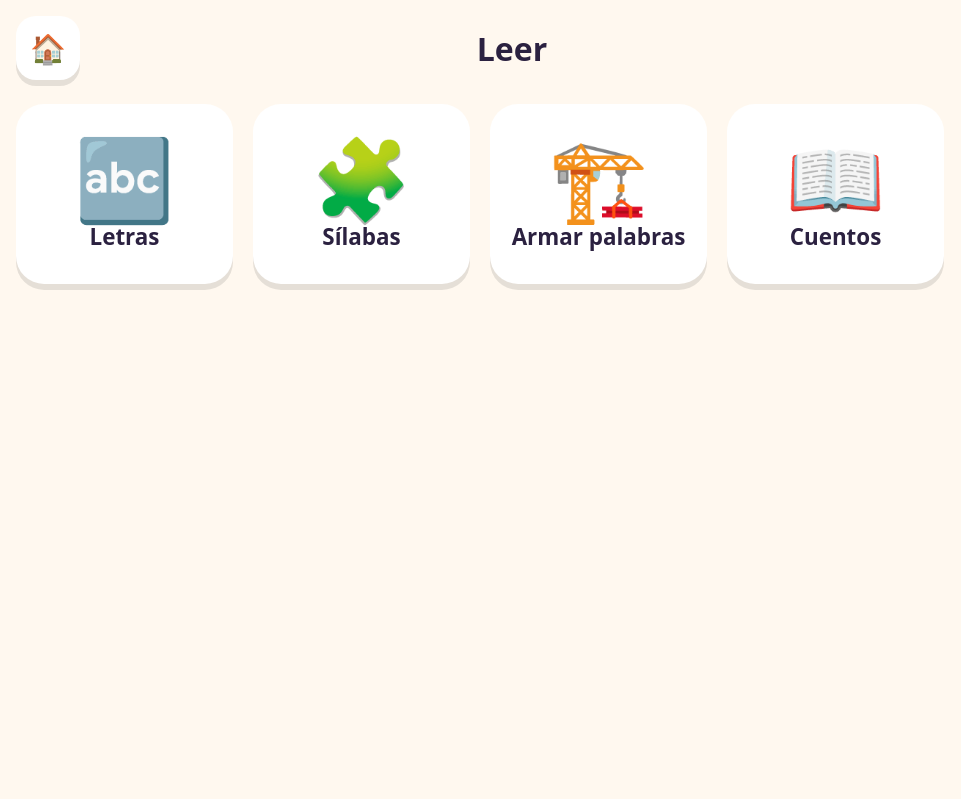
ReadModule › builds a word from syllables in order
Step 1. Click the button with test id "tab-build" → (598, 194), box [490,104,707,284]
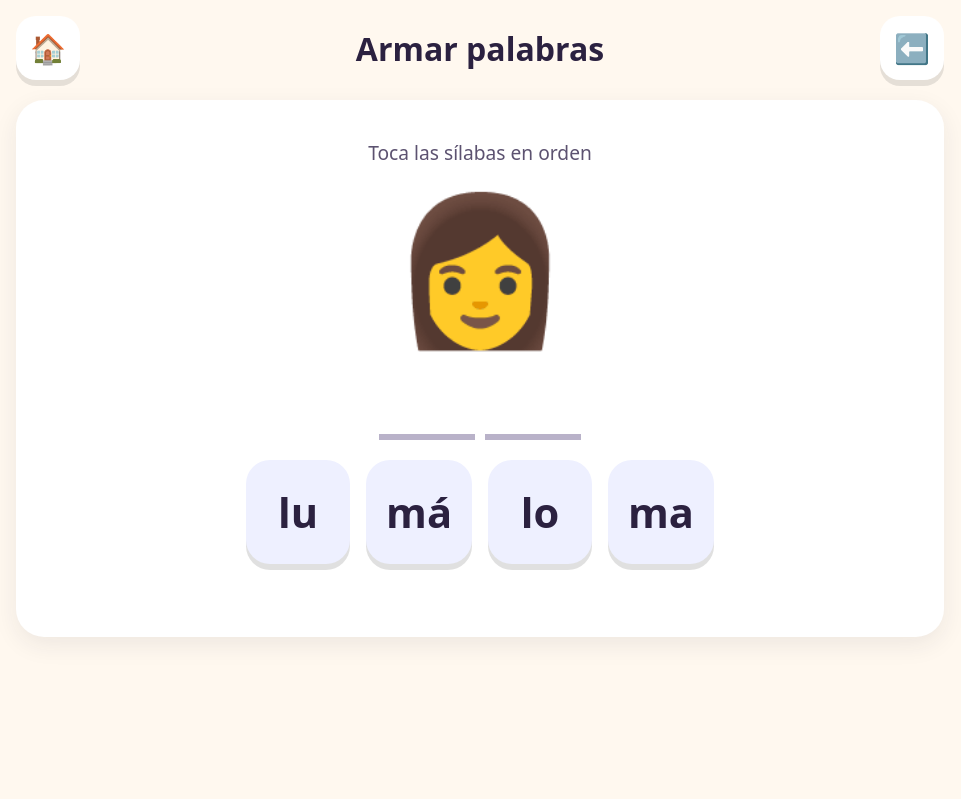
Step 2. Click the button with test id "^tile-" → (298, 512), box [246,460,350,564]
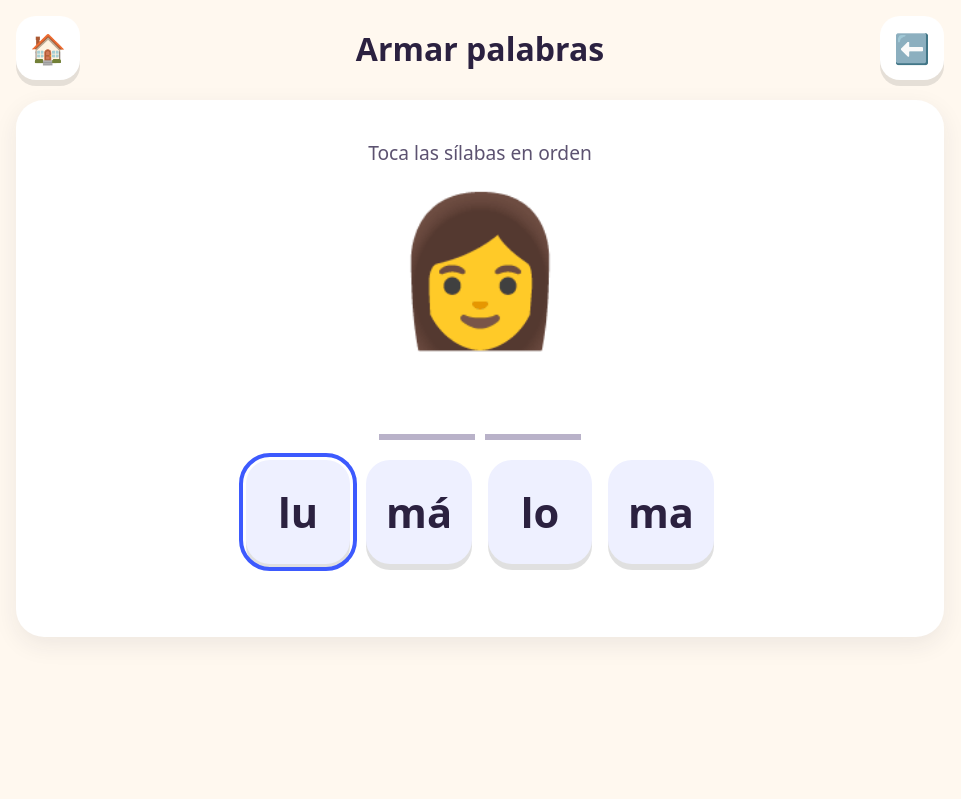
Step 3. Click the button "ma" → (661, 512), box [608,460,714,564]
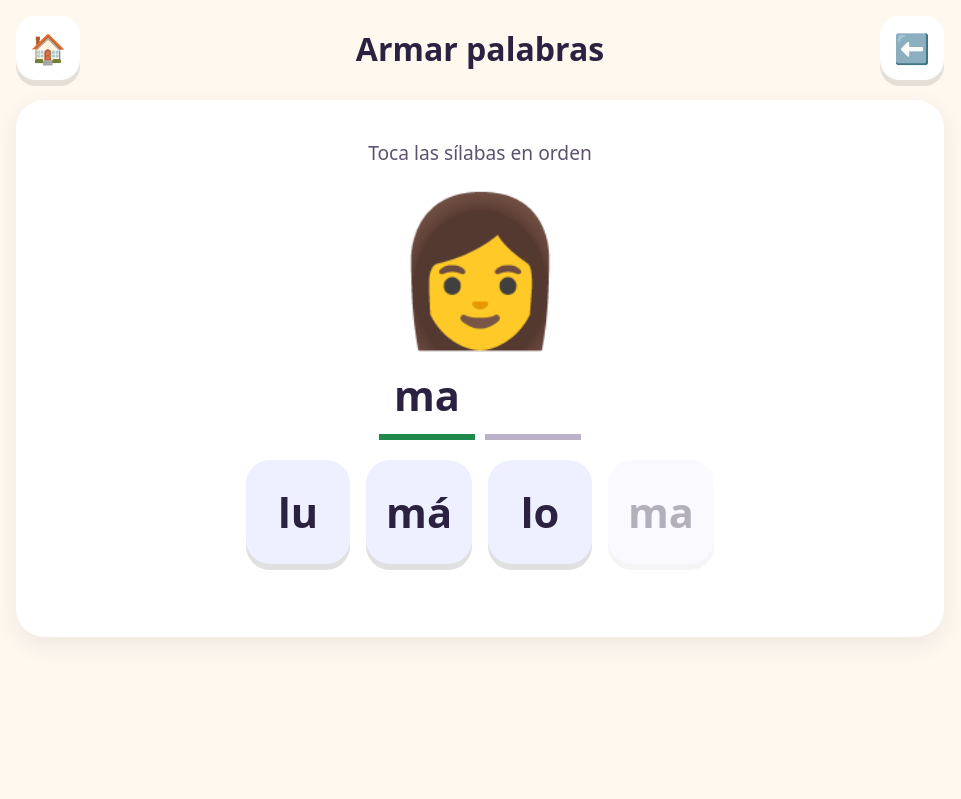
Step 4. Click the button "má" → (419, 512), box [366,460,472,564]
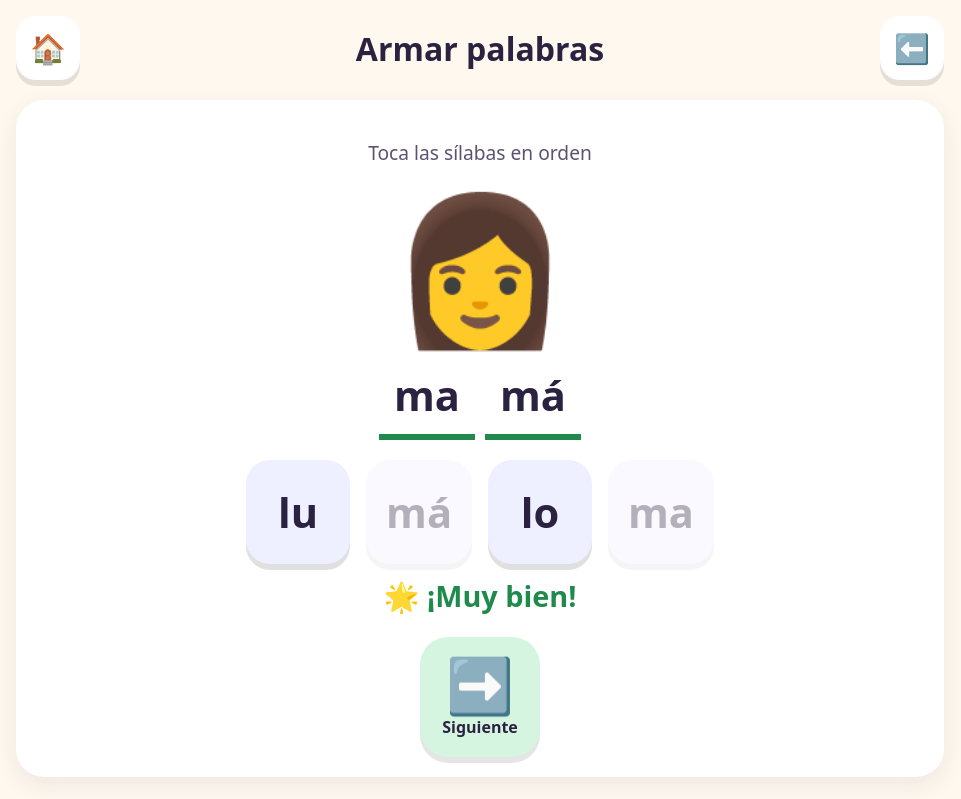
Now the button with test id "next" is shown, box [420,637,540,757]
